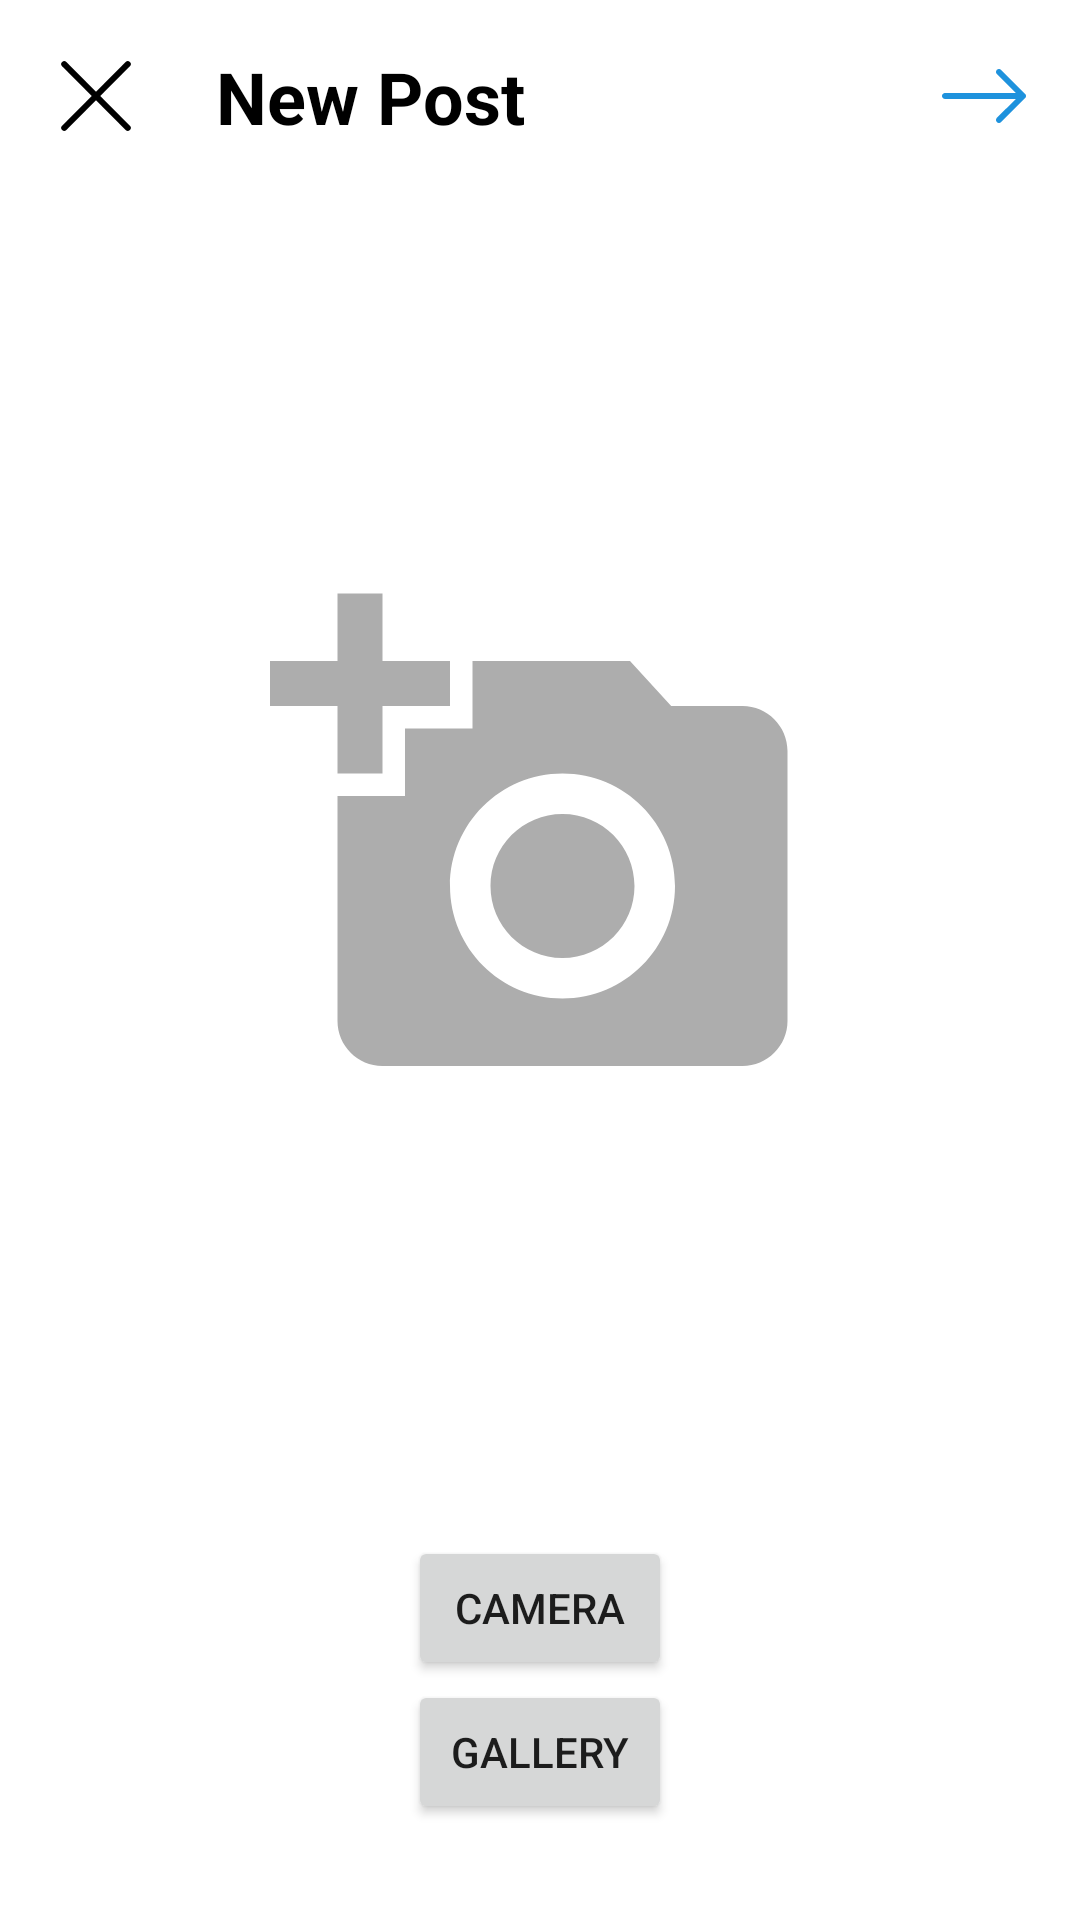

Where icons sit on this 1080*1920 app screen, as (x1, y1, x2, y2):
arrow right: (942, 69, 1026, 123)
close: (61, 61, 131, 131)
